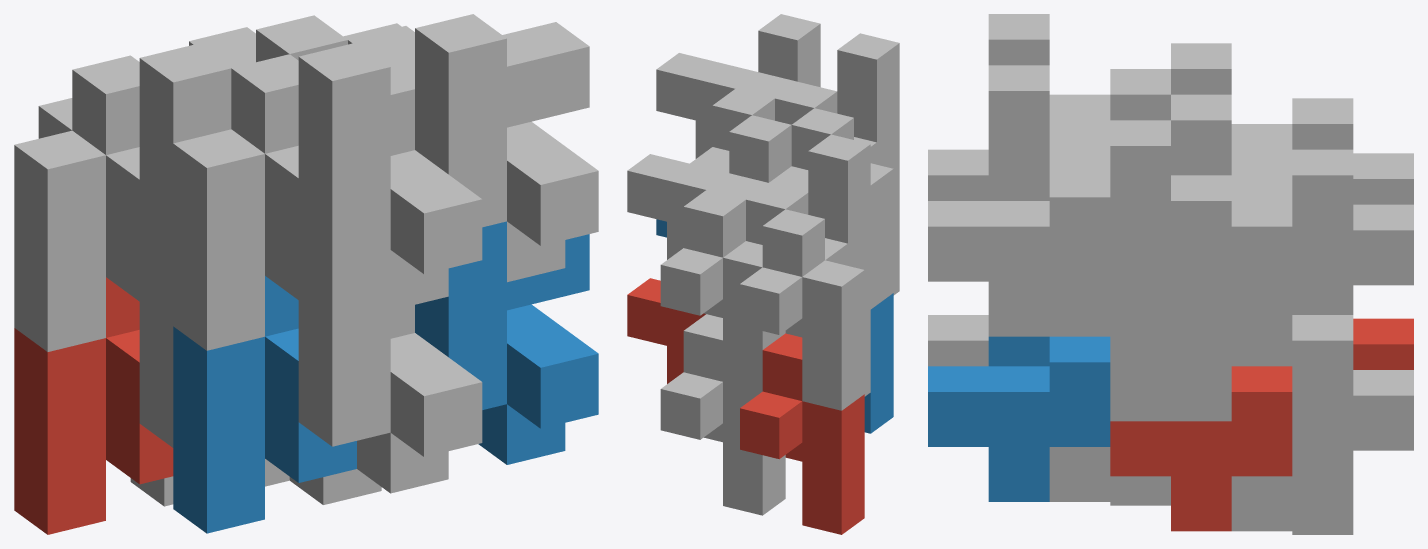
The model's file is tiling.obj.
3 renders of one model, left to right at view 1: azimuth 30°, elevation 25°; view 2: azimuth 150°, elevation 25°; view 3: azimuth 270°, elevation 25°, orthographic. The views are drawn at different scales.
Visible parts, largest first — view 1: copy_2_domain_8, copy_2_domain_4, copy_1_domain_3, copy_2_domain_2, copy_1_domain_4, copy_1_domain_2, copy_2_domain_6, copy_1_domain_1, copy_2_domain_3, copy_2_domain_1, copy_2_domain_7, copy_1_domain_6 (+3 smaller); view 2: copy_1_domain_3, copy_1_domain_1, copy_1_domain_7, copy_1_domain_5, copy_2_domain_3, copy_2_domain_4, copy_2_domain_8, copy_2_domain_7, copy_1_domain_4, copy_2_domain_5, copy_1_domain_2, copy_1_domain_8 (+2 smaller); view 3: copy_2_domain_8, copy_2_domain_7, copy_2_domain_6, copy_1_domain_5, copy_1_domain_7, copy_2_domain_5, copy_1_domain_8, copy_1_domain_6, copy_2_domain_4, copy_1_domain_3, copy_2_domain_3, copy_1_domain_1 (+2 smaller).
Boxes of the visible parts, x1,y1,x2,y2 form: copy_2_domain_8: [415, 14, 598, 282]; copy_2_domain_4: [298, 42, 482, 310]; copy_1_domain_3: [14, 55, 139, 351]; copy_2_domain_2: [298, 240, 482, 493]; copy_1_domain_4: [173, 54, 298, 350]; copy_1_domain_2: [173, 276, 356, 533]; copy_2_domain_6: [415, 221, 598, 464]; copy_1_domain_1: [14, 277, 173, 534]; copy_2_domain_3: [139, 43, 255, 264]; copy_2_domain_1: [139, 241, 289, 486]; copy_2_domain_7: [256, 15, 401, 62]; copy_1_domain_6: [289, 469, 381, 504]; copy_1_domain_3: [740, 209, 864, 410]; copy_1_domain_1: [740, 333, 864, 534]; copy_1_domain_7: [660, 190, 785, 391]; copy_1_domain_5: [660, 314, 785, 515]; copy_2_domain_3: [707, 134, 870, 272]; copy_2_domain_4: [735, 33, 899, 170]; copy_2_domain_8: [656, 14, 820, 158]; copy_2_domain_7: [627, 115, 791, 259]; copy_1_domain_4: [769, 108, 893, 309]; copy_2_domain_5: [627, 278, 705, 383]; copy_1_domain_2: [864, 293, 893, 433]; copy_1_domain_8: [690, 89, 774, 172]; copy_2_domain_8: [928, 65, 1110, 336]; copy_2_domain_7: [1110, 94, 1292, 366]; copy_2_domain_6: [928, 336, 1110, 501]; copy_1_domain_5: [1231, 315, 1413, 534]; copy_1_domain_7: [1231, 149, 1413, 366]; copy_2_domain_5: [1110, 366, 1292, 531]; copy_1_domain_8: [1049, 120, 1231, 336]; copy_1_domain_6: [1049, 311, 1231, 505]; copy_2_domain_4: [928, 14, 1110, 200]; copy_1_domain_3: [1292, 98, 1413, 204]; copy_2_domain_3: [1171, 43, 1292, 175]; copy_1_domain_1: [1353, 318, 1413, 369].
Bounding box in the file's own units: 7 × 9 × 8.
